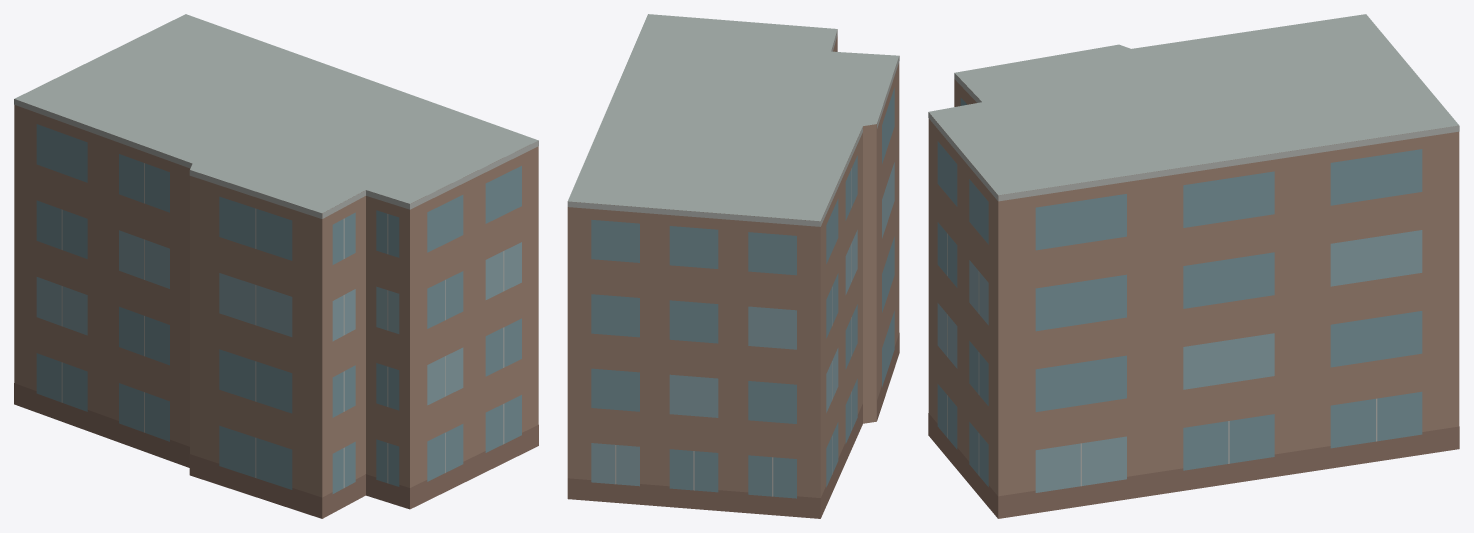
Rendered from survey-upis-32748272.glb.
3 renders of one model, left to right at view 1: azimuth 30°, elevation 25°; view 2: azimuth 150°, elevation 25°; view 3: azimuth 270°, elevation 25°, orthographic. The views are drawn at different scales.
Parts seen in each view (by area): view 1: survey-upis-32748272.tmp; view 2: survey-upis-32748272.tmp; view 3: survey-upis-32748272.tmp.
Boxes of the visible parts, x1,y1,x2,y2 form: survey-upis-32748272.tmp: [14, 14, 538, 518]; survey-upis-32748272.tmp: [567, 14, 899, 518]; survey-upis-32748272.tmp: [928, 14, 1459, 518].
Bounding box in the file's own units: 15.51 × 12.9 × 19.2.
